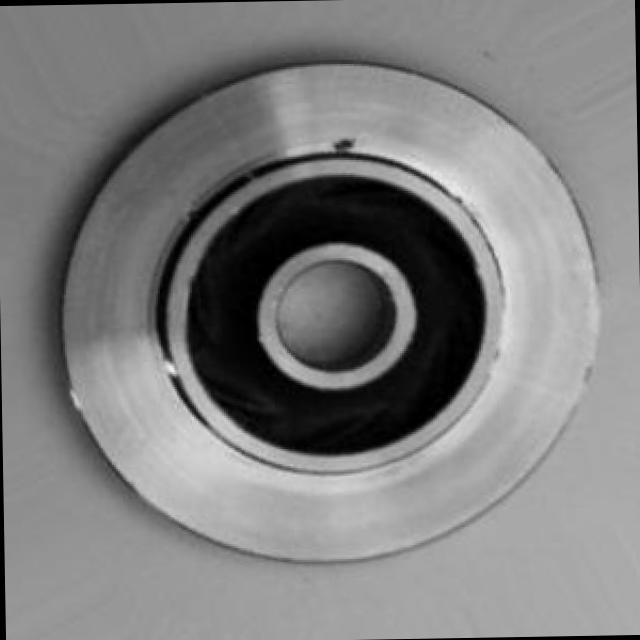Defect: (324, 123, 371, 166)
